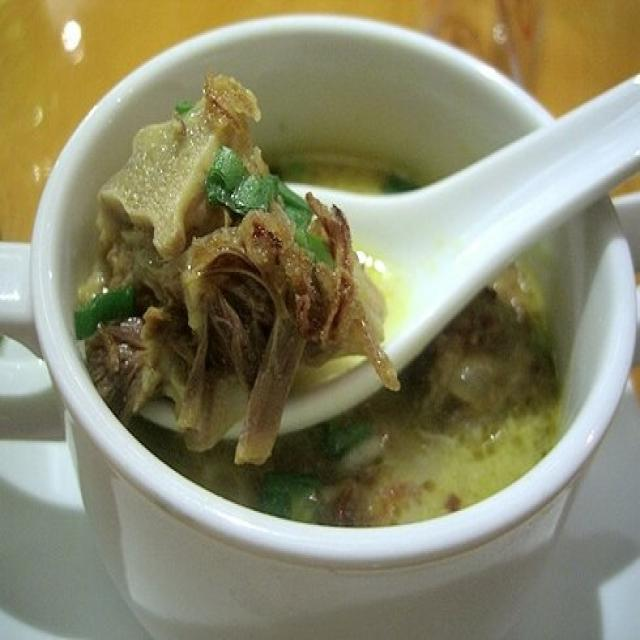汤锅炖物: (42, 21, 623, 567)
